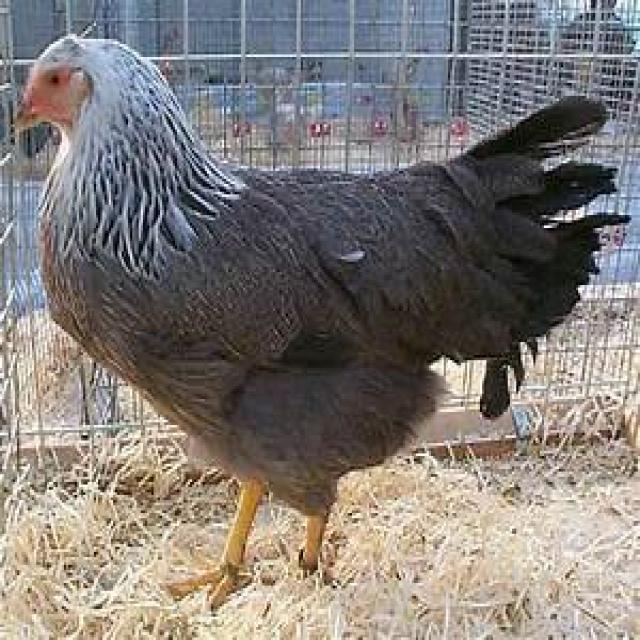hen: (17, 34, 631, 611)
